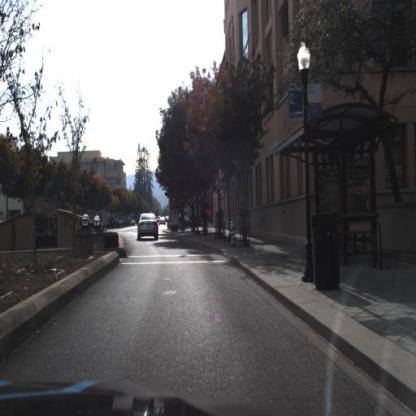car: (138, 212, 161, 243)
pedestrian: (219, 202, 228, 233)
